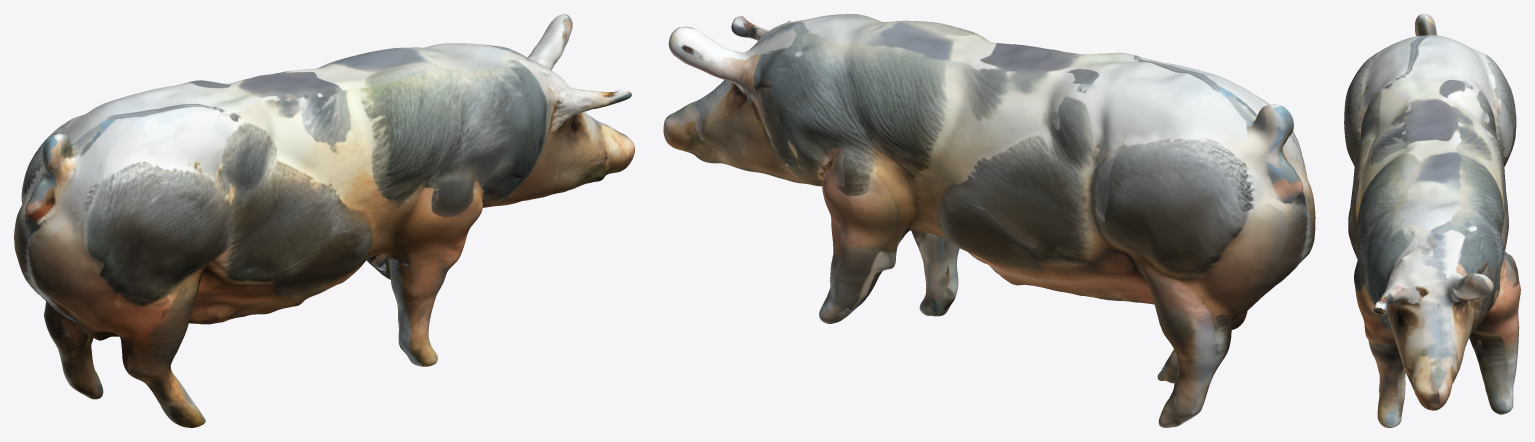
File: adulto.glb
3 views of the same model, side by side, from view 1: azimuth 30°, elevation 25°; view 2: azimuth 150°, elevation 25°; view 3: azimuth 270°, elevation 25° (orthographic). The views are drawn at different scales.
Parts seen in each view (by area): view 1: mesh; view 2: mesh; view 3: mesh.
Boxes of the visible parts, x1=… form: mesh: x1=14, y1=14, x2=634, y2=427; mesh: x1=663, y1=14, x2=1315, y2=427; mesh: x1=1344, y1=14, x2=1520, y2=427.
Bounding box in the file's own units: 1.93 × 0.9452 × 0.5533.
1 material, 1 textured.
